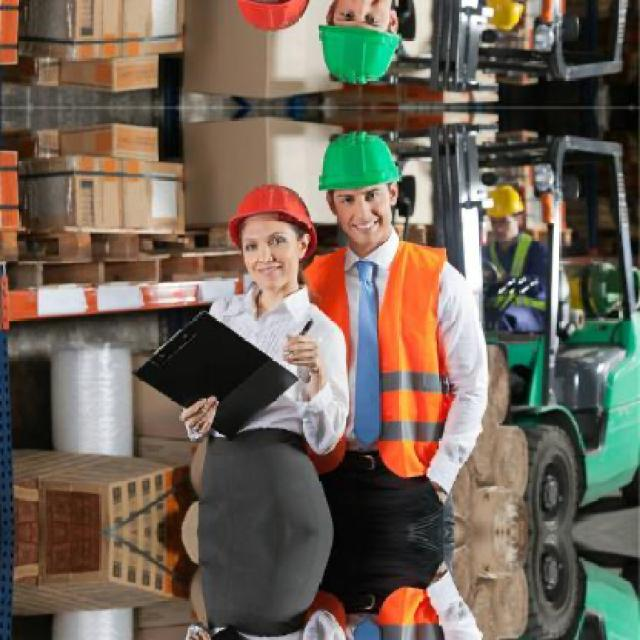helmet: (311, 121, 411, 252), (226, 172, 314, 286), (311, 0, 413, 92), (227, 0, 316, 42), (483, 183, 525, 235), (483, 0, 526, 31)
